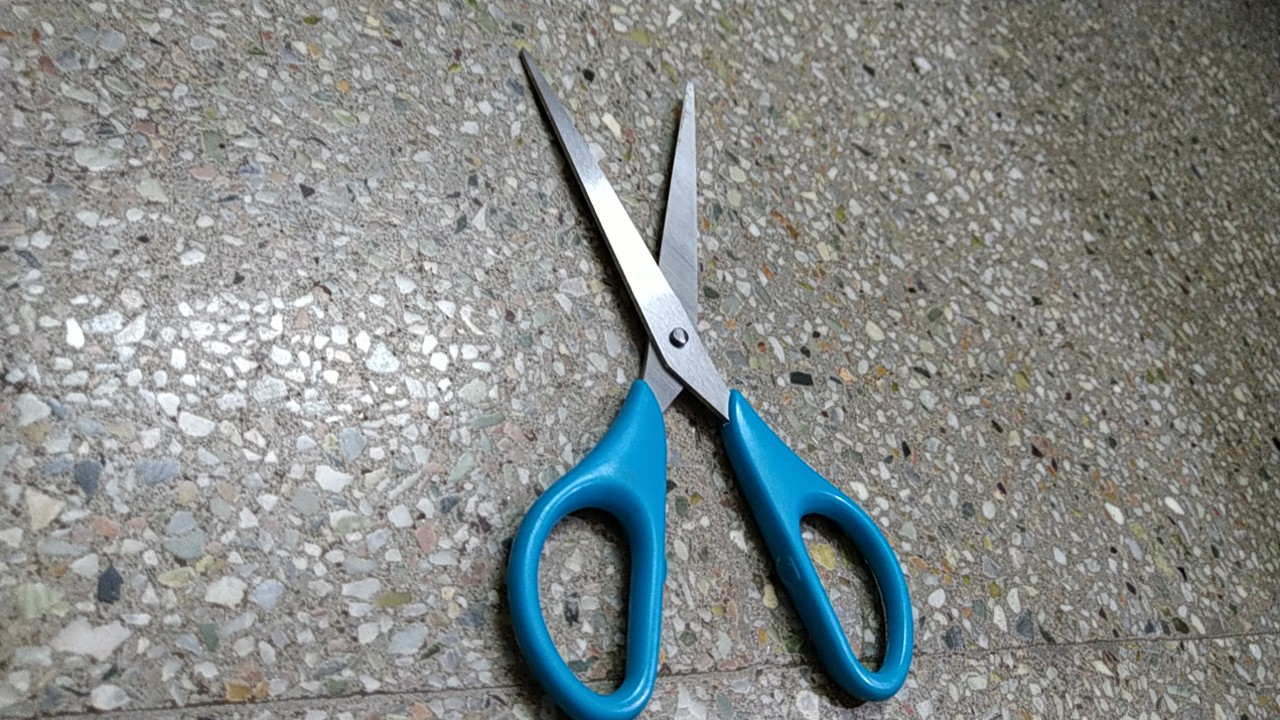scissor: (470, 30, 930, 720)
